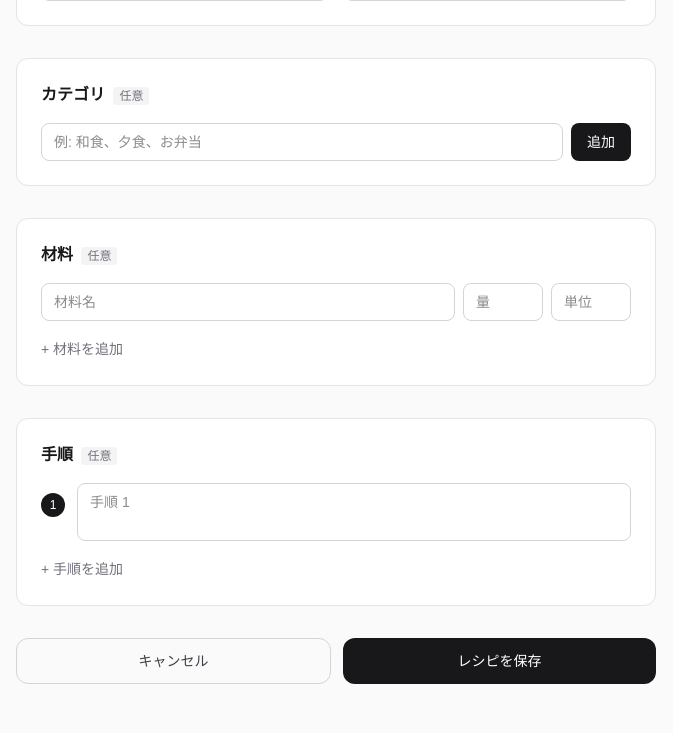
Test case: NewRecipePage › 「+ 材料を追加」を押すと材料の入力行が増える
(page scrolled)
Click the button "+ 材料を追加" at (82, 349), box [41,339,123,359]
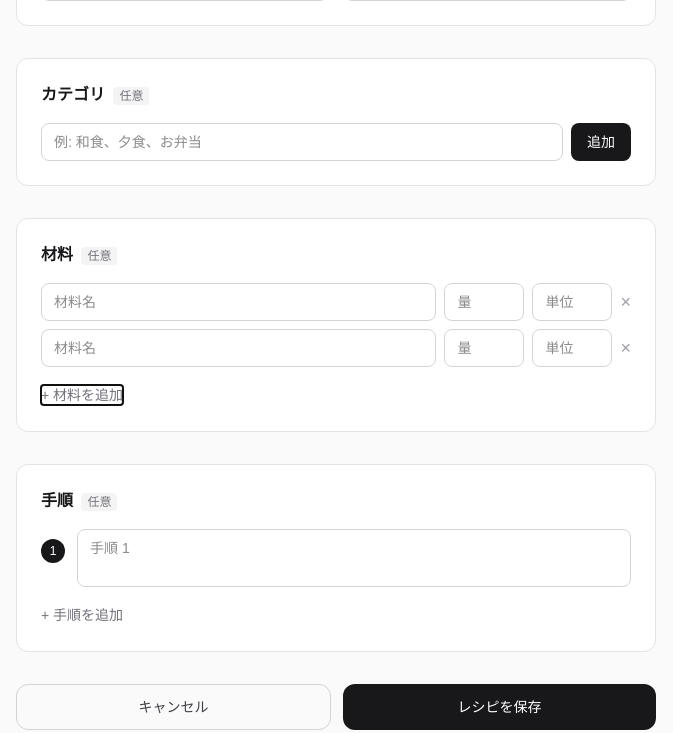
Result: the number of fields with placeholder "材料名" is 2 at [41,283,436,321]; [41,329,436,367]
